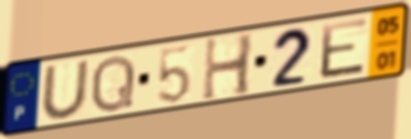2: (266, 22, 317, 93)
5: (155, 42, 195, 105)
E: (318, 15, 370, 82)
H: (200, 31, 257, 104)
Q: (88, 53, 138, 116)
U: (38, 57, 91, 121)
